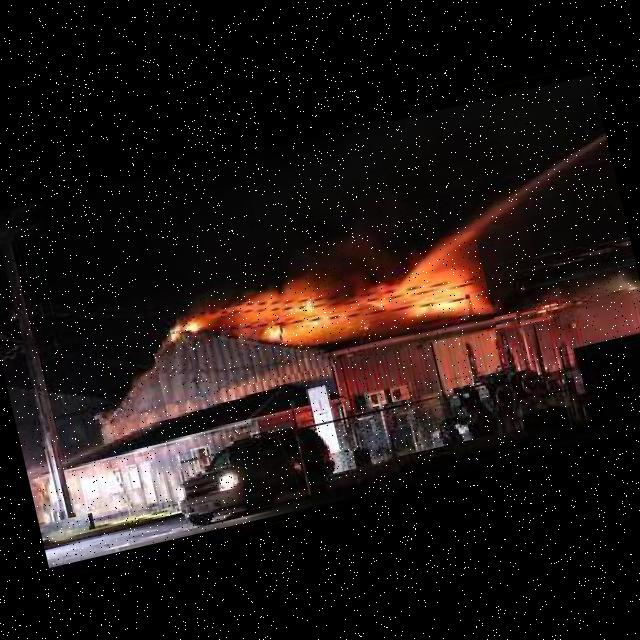fire: (142, 230, 496, 403)
